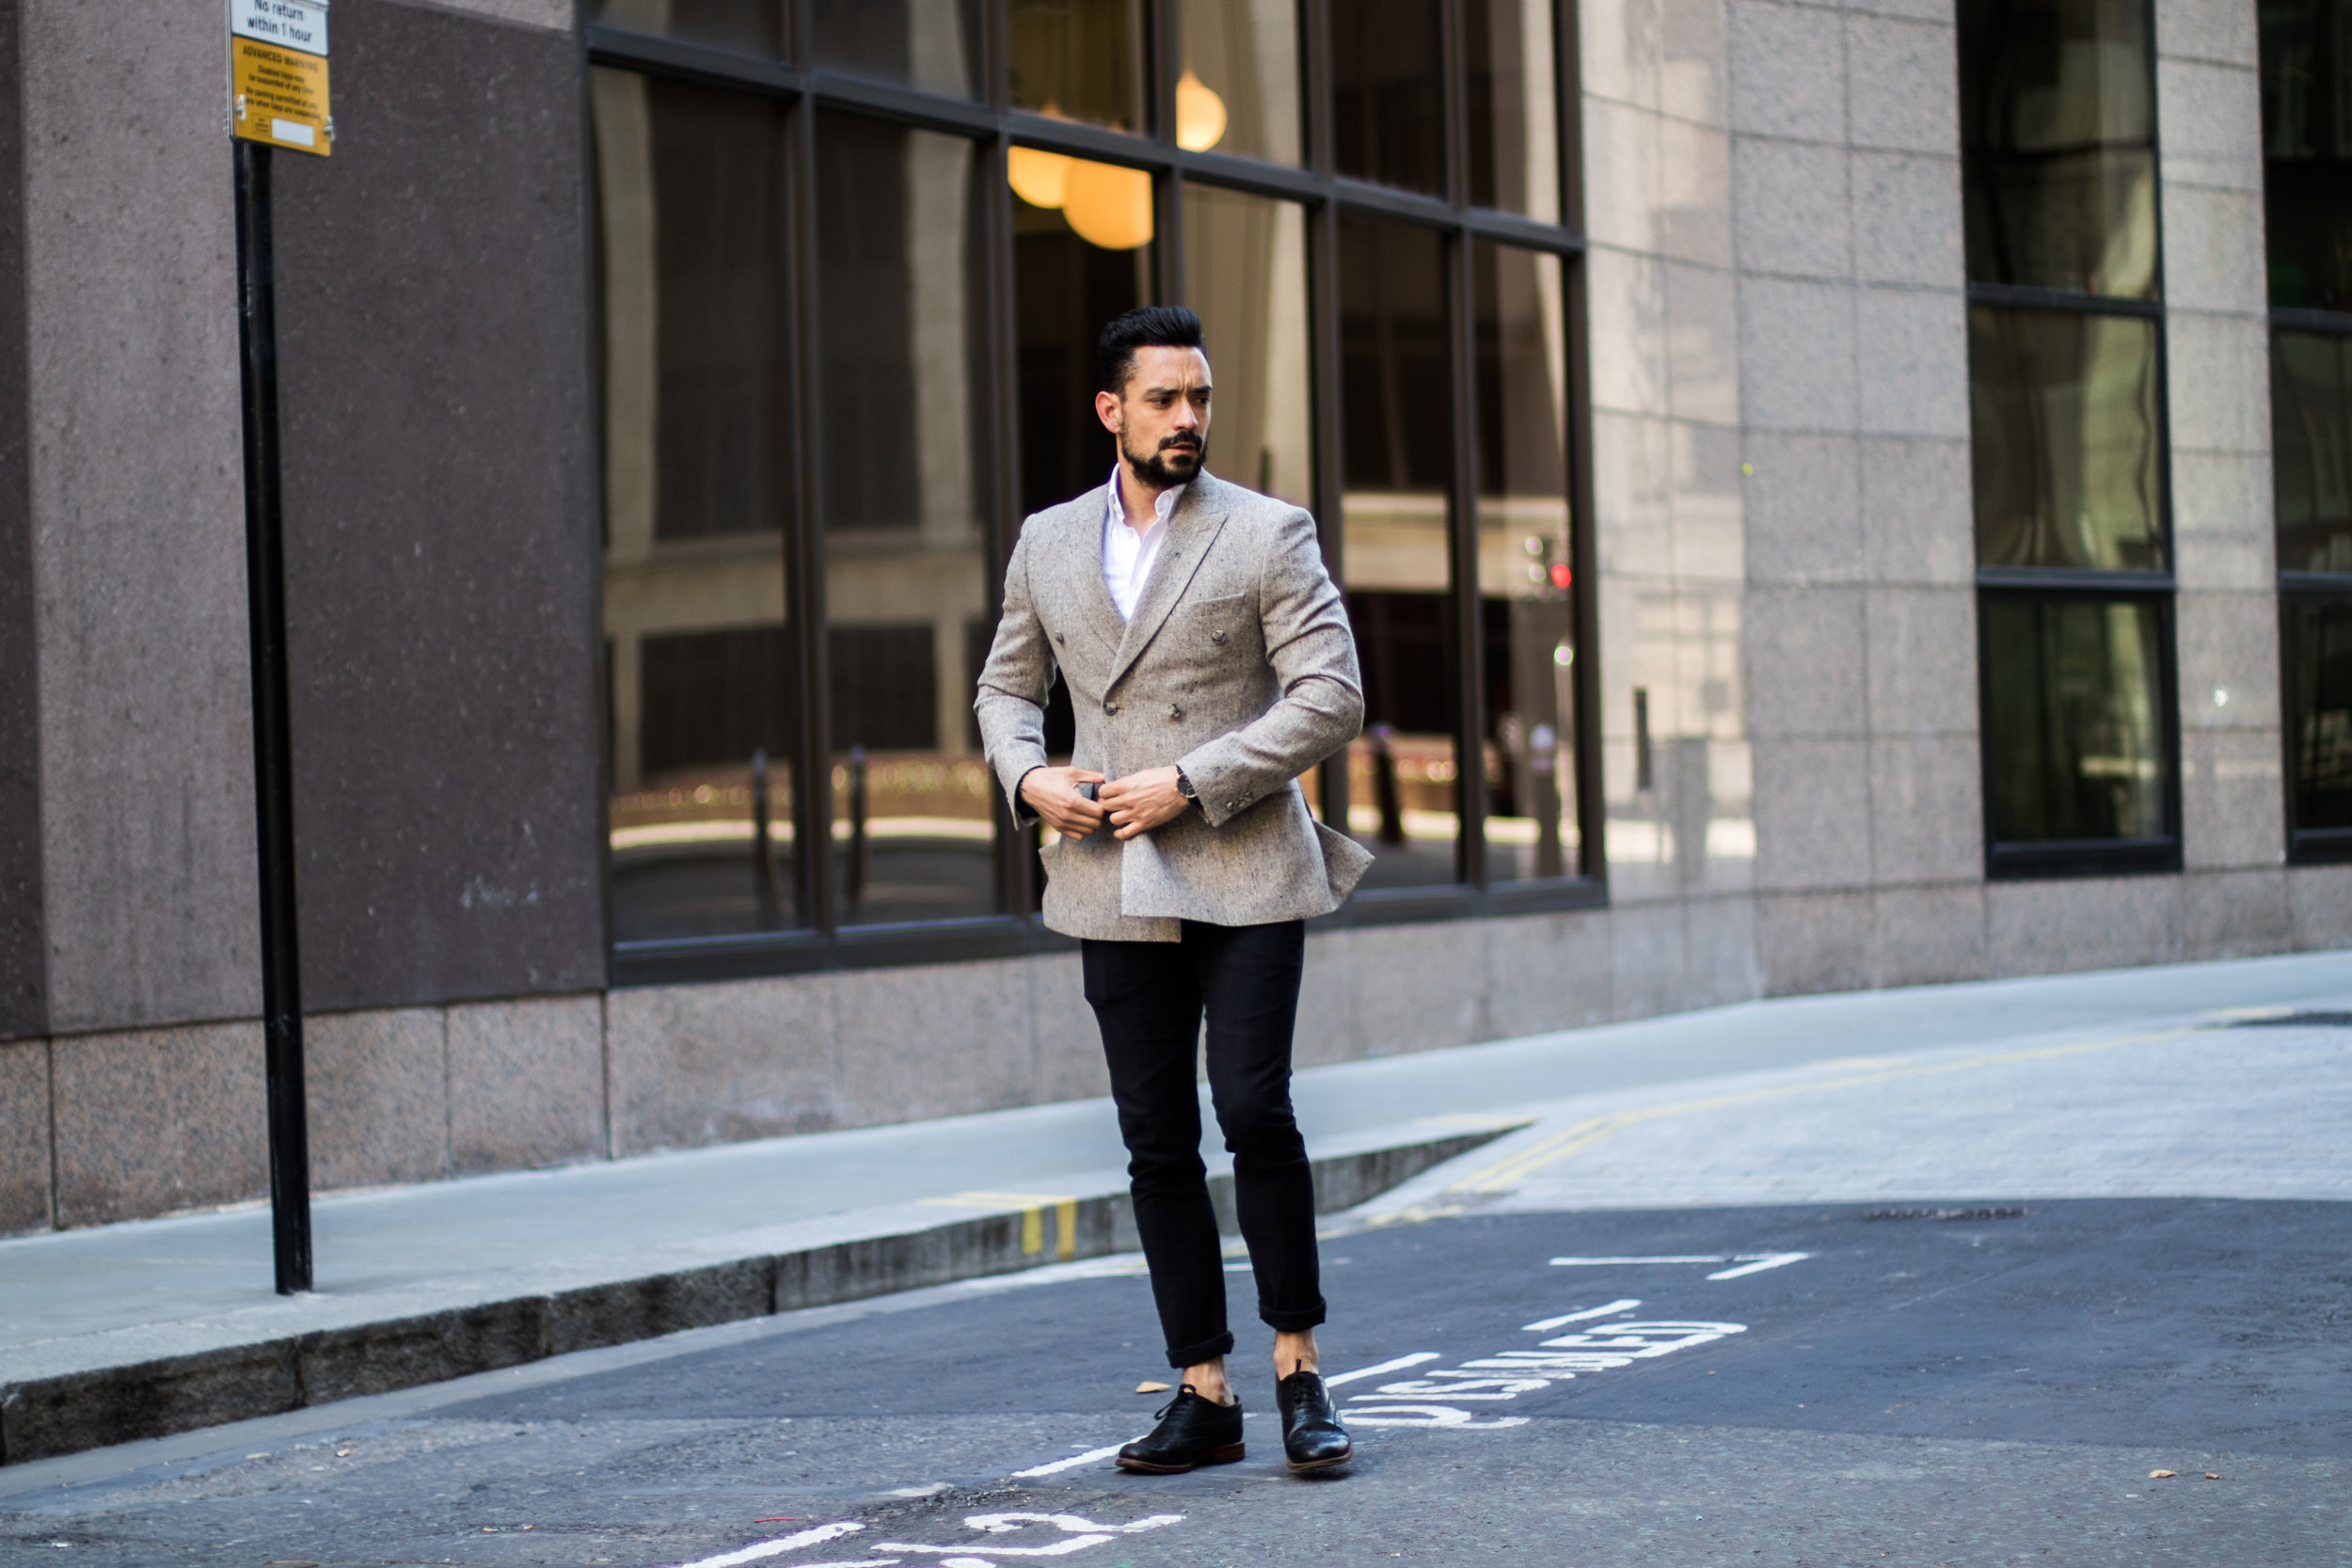Person: (974, 308, 1379, 1470)
